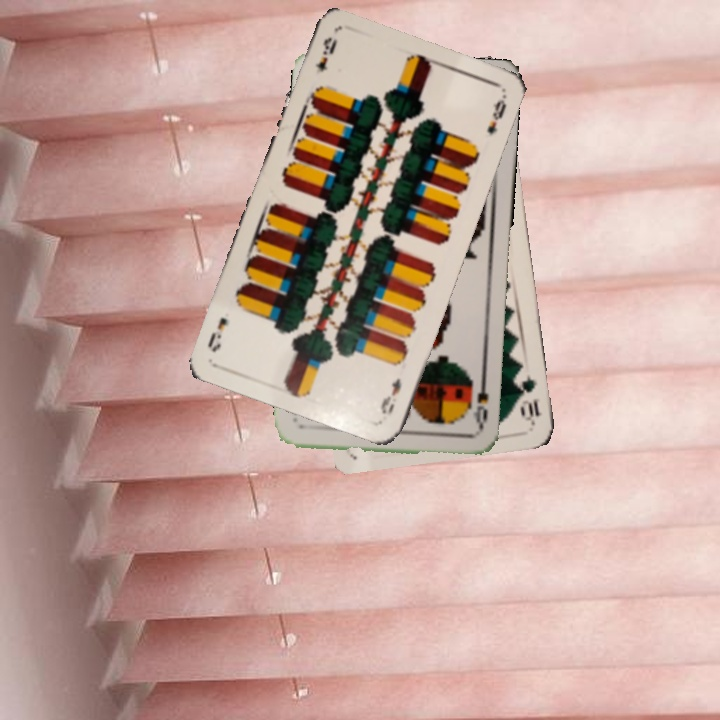E9: (376, 374, 404, 417), (311, 33, 339, 75)
G10: (516, 370, 543, 425)
SO: (469, 374, 490, 433)
